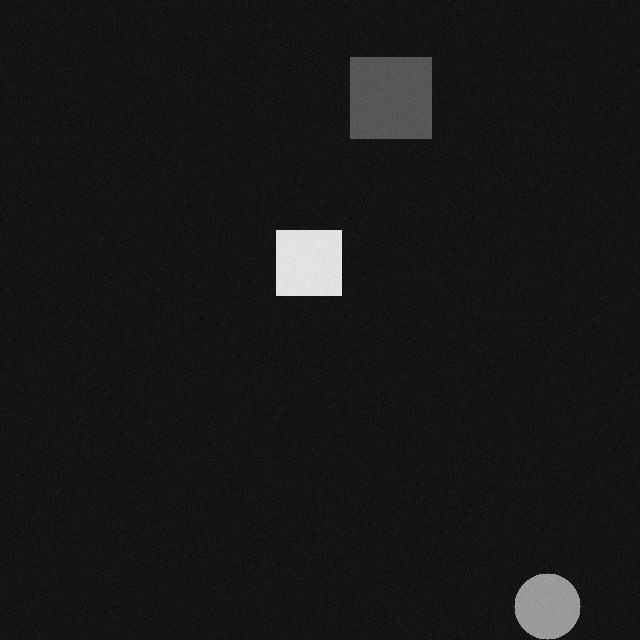circle: (509, 558, 575, 624)
square: (345, 42, 426, 123), (271, 215, 336, 280)
